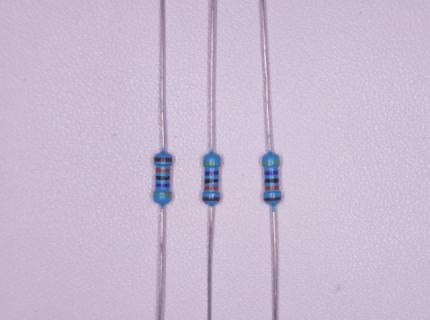Black band: (265, 178, 279, 183), (205, 179, 219, 183), (156, 176, 169, 180)
Brown band: (154, 157, 173, 162), (202, 197, 219, 201), (264, 197, 281, 201)
Orange band: (265, 185, 279, 191), (204, 186, 218, 190), (156, 168, 170, 172)
Violet band: (204, 171, 219, 176), (156, 183, 170, 187), (265, 171, 278, 175)
Yellow band: (261, 161, 280, 166), (154, 192, 171, 196), (203, 162, 220, 166)
